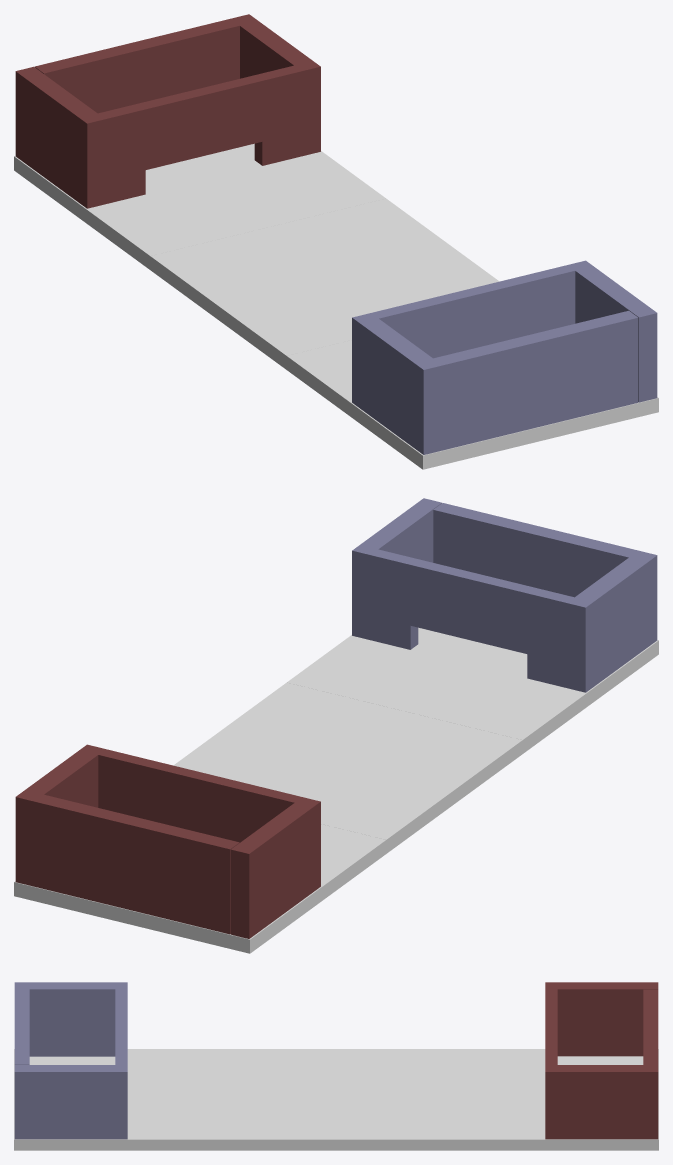
File: bases.glb
The picture shows the model from 3 angles, top to bottom: view 1: azimuth 30°, elevation 25°; view 2: azimuth 150°, elevation 25°; view 3: azimuth 270°, elevation 25°; orthographic projection. The views are drawn at different scales.
Visible parts, largest first — view 1: Cube.003, Cube.001, Cube.004, Cube, Cube.002; view 2: Cube.001, Cube.003, Cube.004, Cube.002, Cube; view 3: Cube.004, Cube.001, Cube.003, Cube, Cube.002.
Part boxes in pixels (x1,y1,x2,y2): Cube.003: (352, 260, 657, 454); Cube.001: (15, 14, 320, 208); Cube.004: (150, 198, 499, 369); Cube: (14, 143, 385, 269); Cube.002: (286, 340, 658, 469); Cube.001: (15, 744, 320, 938); Cube.003: (352, 498, 657, 692); Cube.004: (173, 682, 522, 853); Cube.002: (287, 627, 658, 753); Cube: (14, 824, 386, 953); Cube.004: (229, 1049, 443, 1150); Cube.001: (545, 982, 658, 1139); Cube.003: (14, 982, 127, 1139); Cube: (444, 1049, 658, 1150); Cube.002: (14, 1049, 228, 1150).
Size of the model in its own units: 34.98 by 14.05 by 105.
